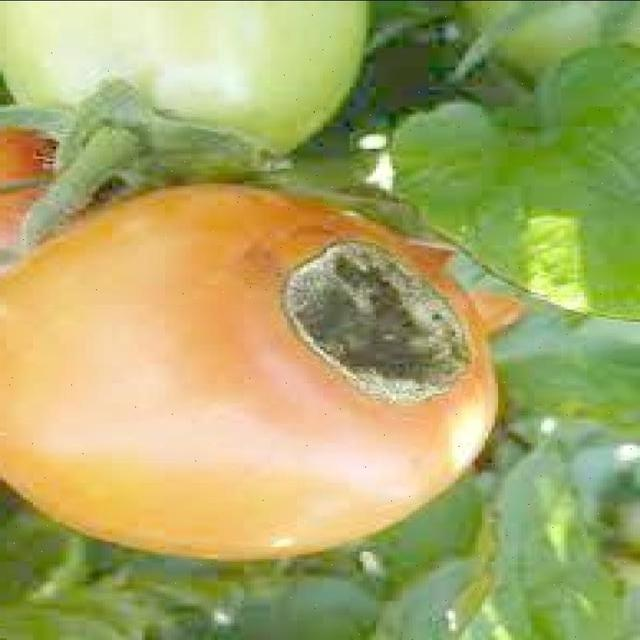Blossom End Rot Fruit: (192, 159, 321, 276)
